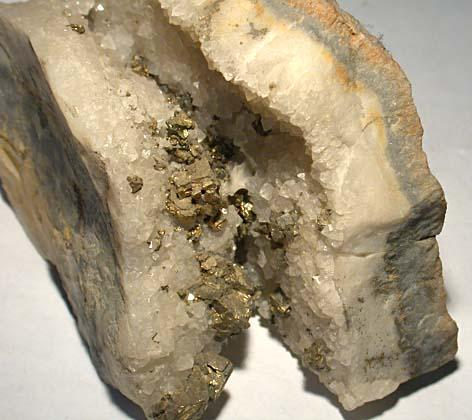pyrite: (0, 0, 459, 420)
